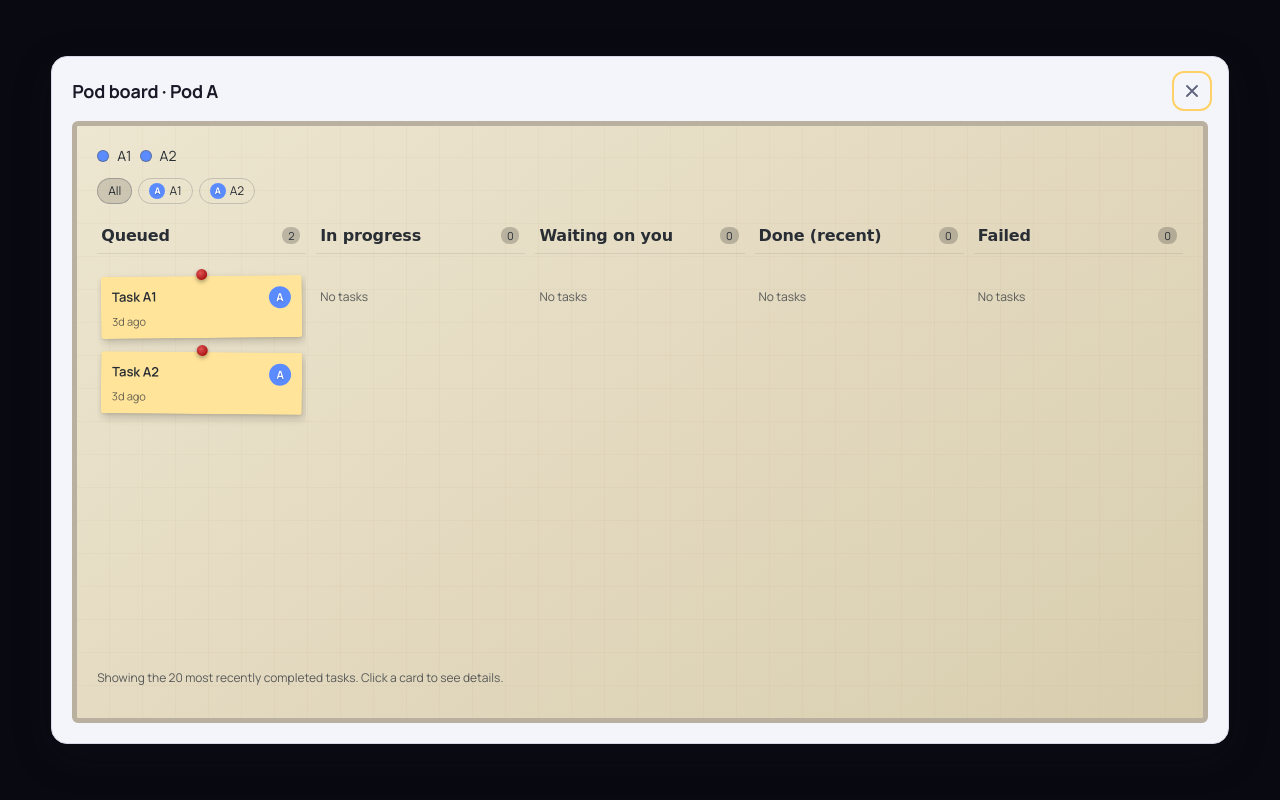
Scenario: PodBoard filter chips › multi-selects two agents
The width and height of the screenshot is (1280, 800).
Click the button "A A1" at [166, 191], box [138,178,193,204]
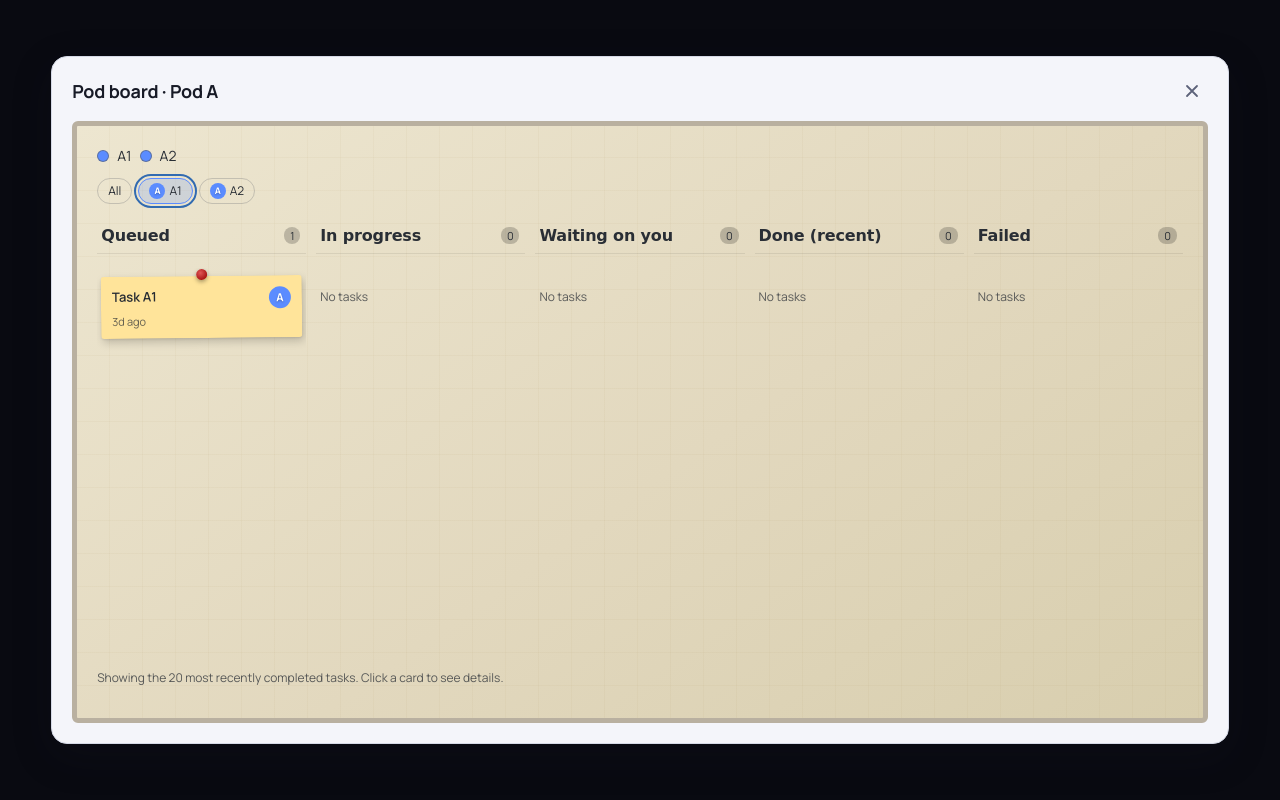
Click the button "A A2" at [227, 191], box [199,178,255,204]
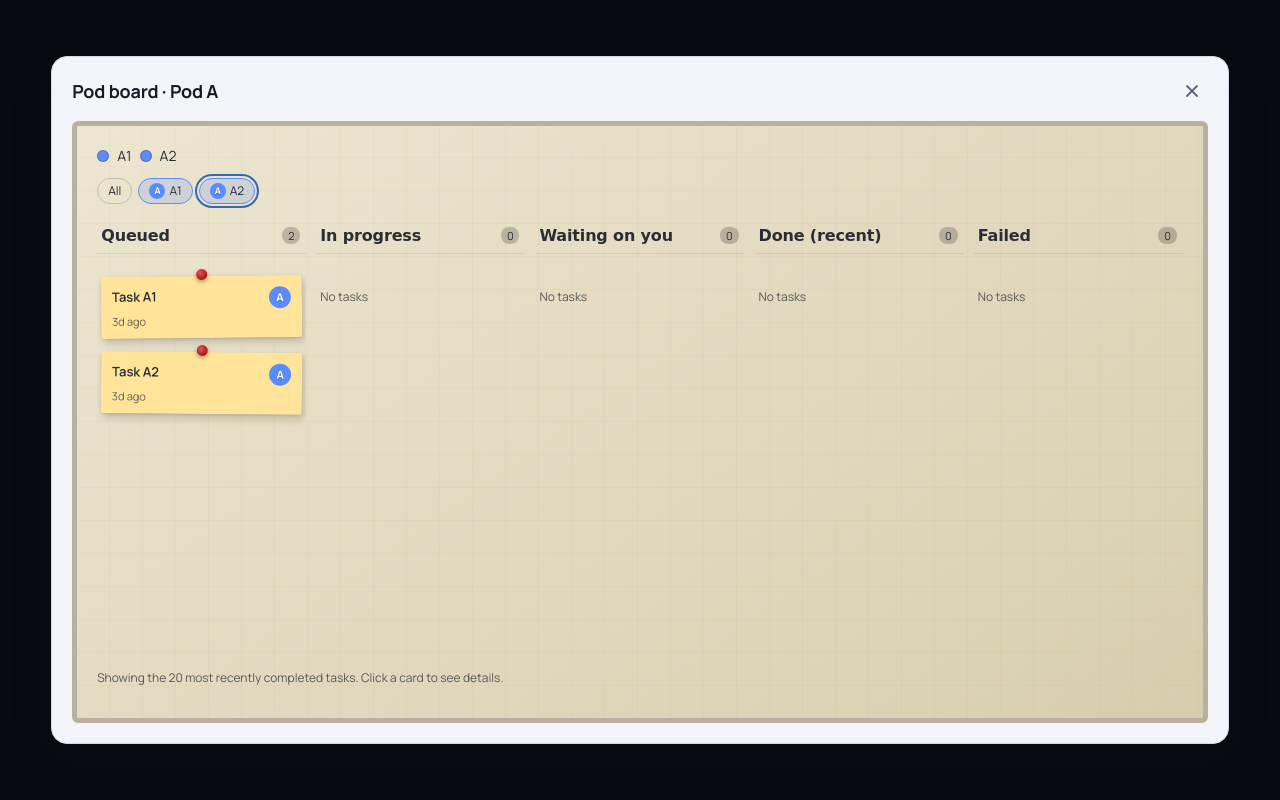
Expected: the text "Task A1" is shown, [112,287,157,306]
Result: the text "Task A2" is shown at [112,362,159,380]
